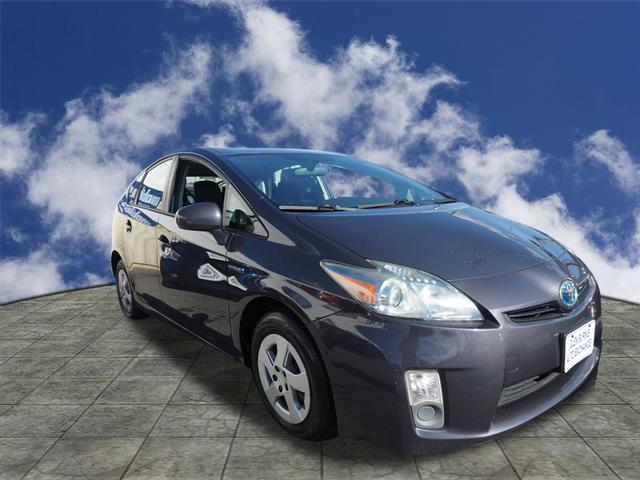Toyota Prius: (108, 145, 605, 456)
